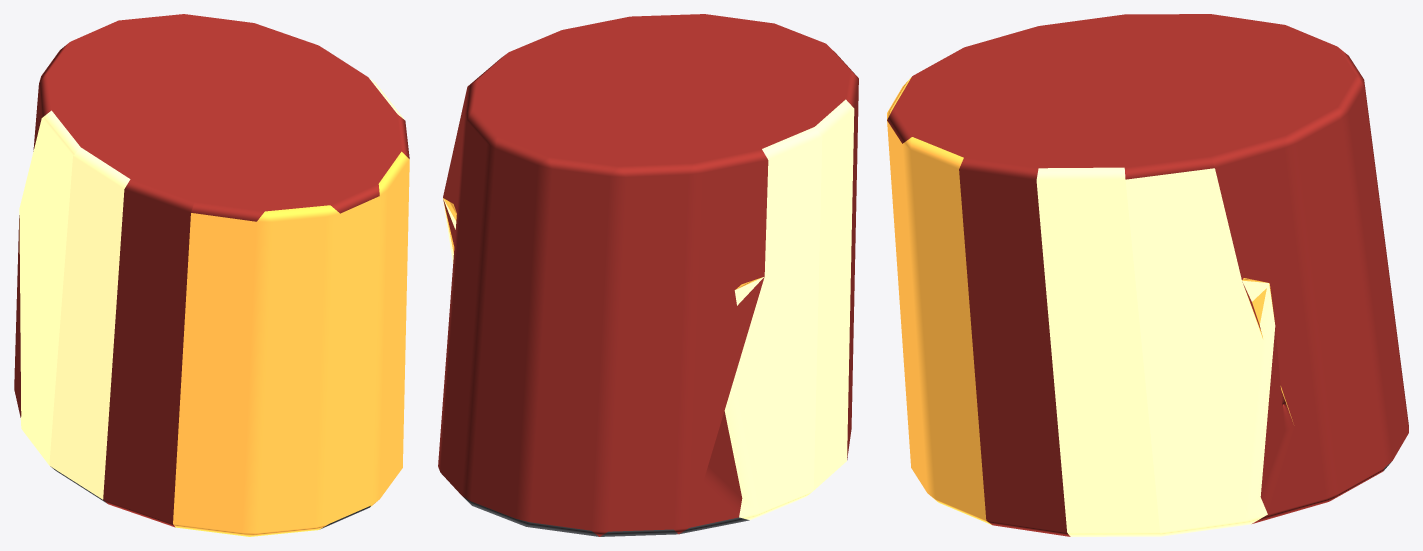
Rendered from SM_SB_Armor_head.fbx.
The picture shows the model from 3 angles, left to right: view 1: azimuth 30°, elevation 25°; view 2: azimuth 150°, elevation 25°; view 3: azimuth 270°, elevation 25°; orthographic projection. The views are drawn at different scales.
Parts seen in each view (by area): view 1: SM_SB_Armor_head; view 2: SM_SB_Armor_head; view 3: SM_SB_Armor_head.
Part boxes in pixels (left/top/right/bottom): SM_SB_Armor_head: left=14, top=14, right=409, bottom=536; SM_SB_Armor_head: left=438, top=14, right=858, bottom=536; SM_SB_Armor_head: left=887, top=14, right=1408, bottom=536.
Size of the model in its own units: 22.2 by 28.91 by 24.22.
